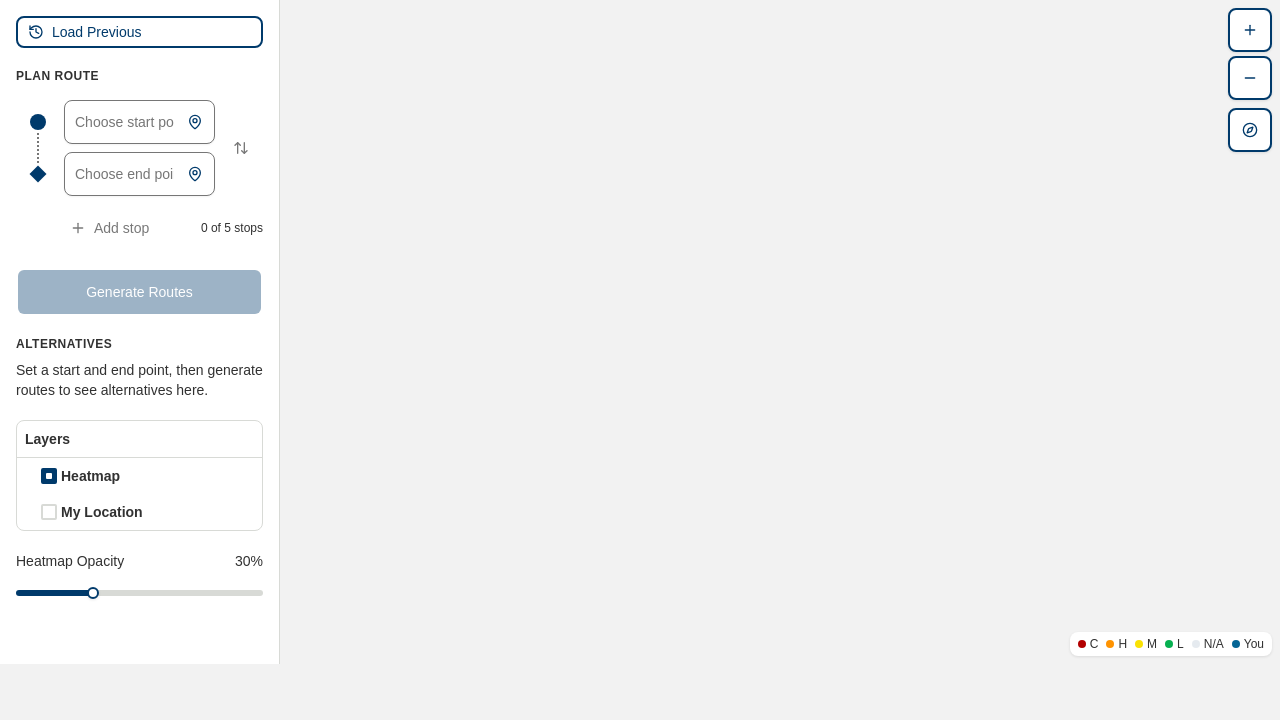
Test: PatrolPlannerPage › shows a critical toast when saving fails
The width and height of the screenshot is (1280, 720).
Type "-24.3, 31.05" into the field labelled "Choose start point" at (140, 122), box [64,100,215,144]
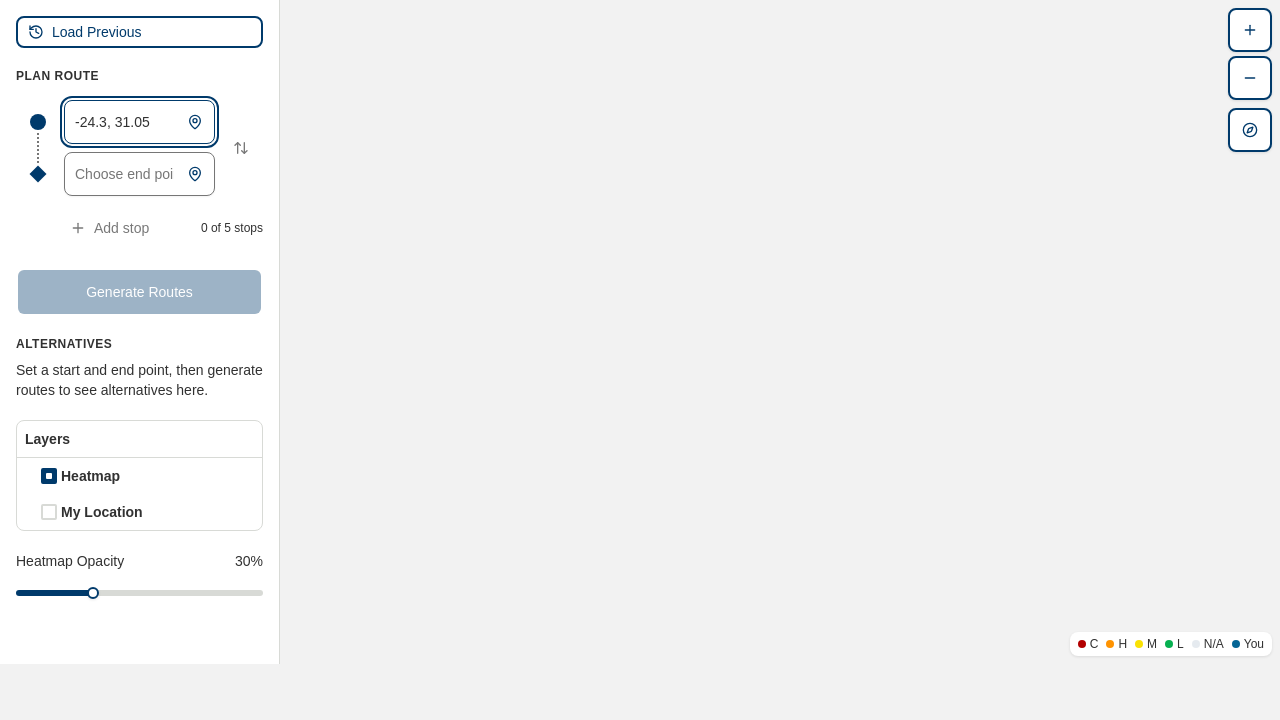
Type "-24.32, 31.08" into the field labelled "Choose end point" at (140, 174), box [64,152,215,196]
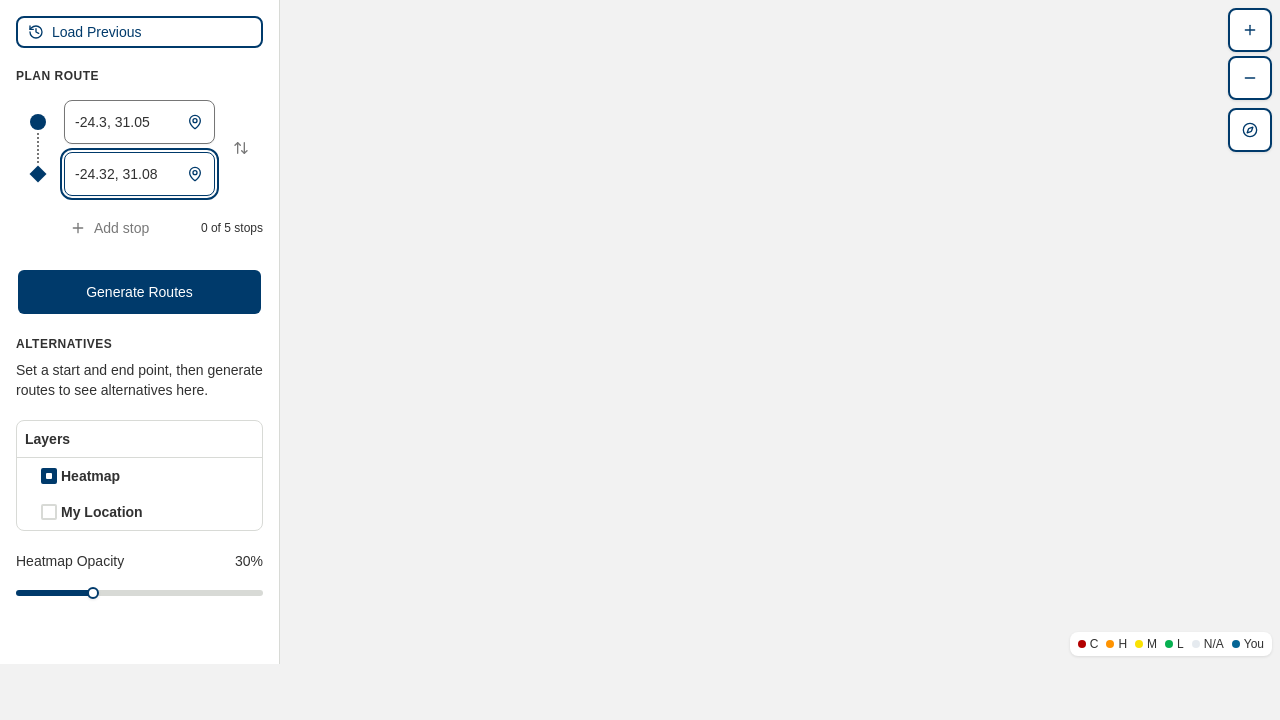
Click the button "Generate Routes" at (140, 292), box [16,268,263,316]
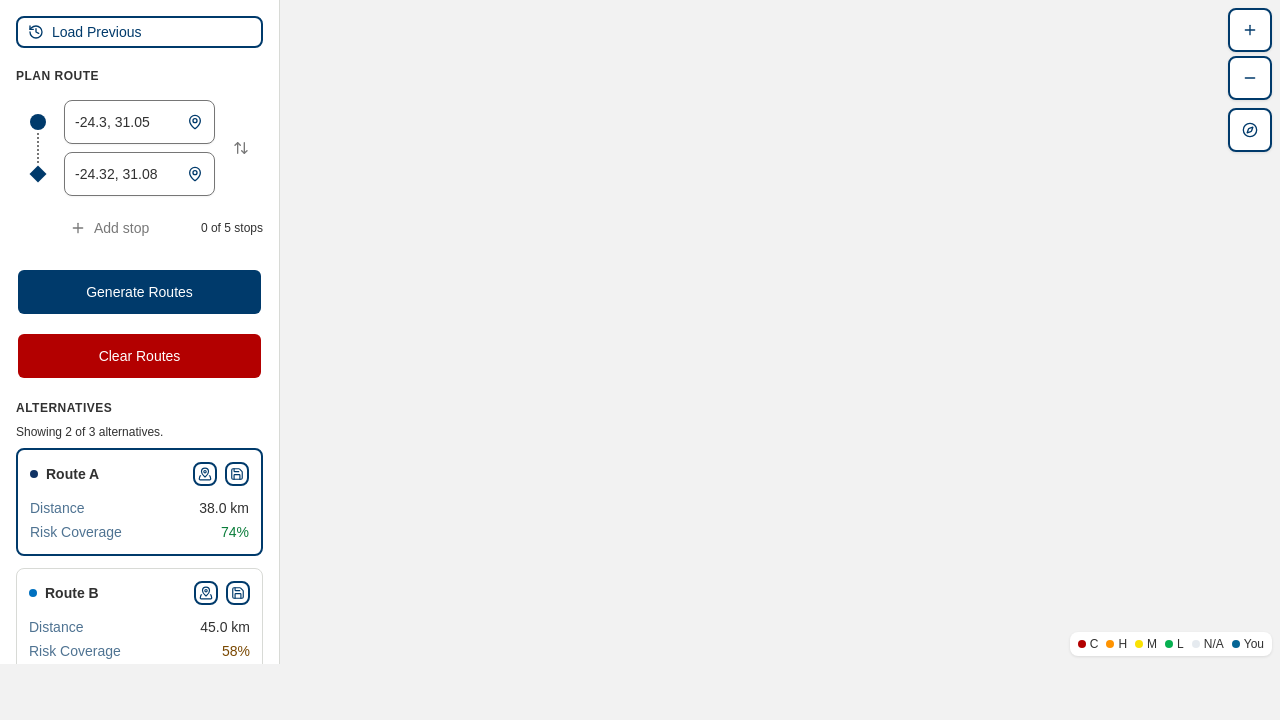
Now the button "Route A" is shown, box [46,464,185,484]
Click the button named "save route a" at (237, 474), box [225,462,249,486]
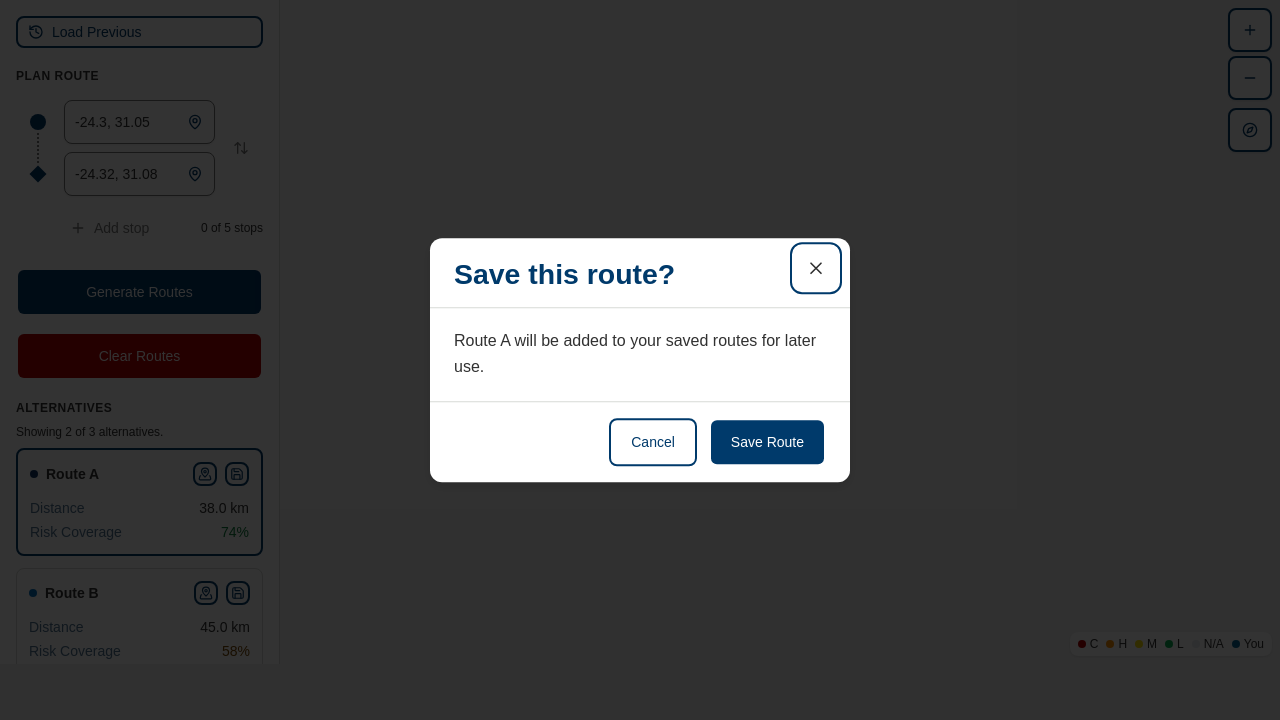
Click the button "Save Route" at (767, 442), box [709,418,826,466]
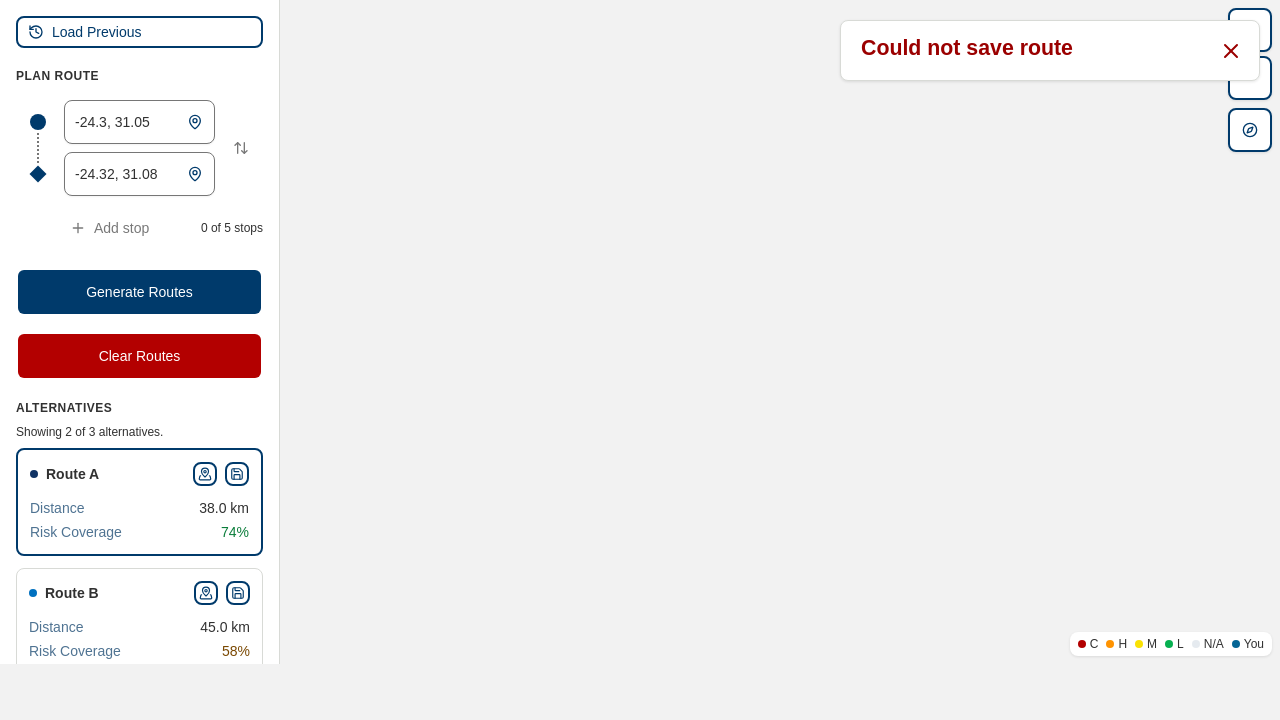
Now the text "Could not save route" is shown, box [861,36,1073,60]
